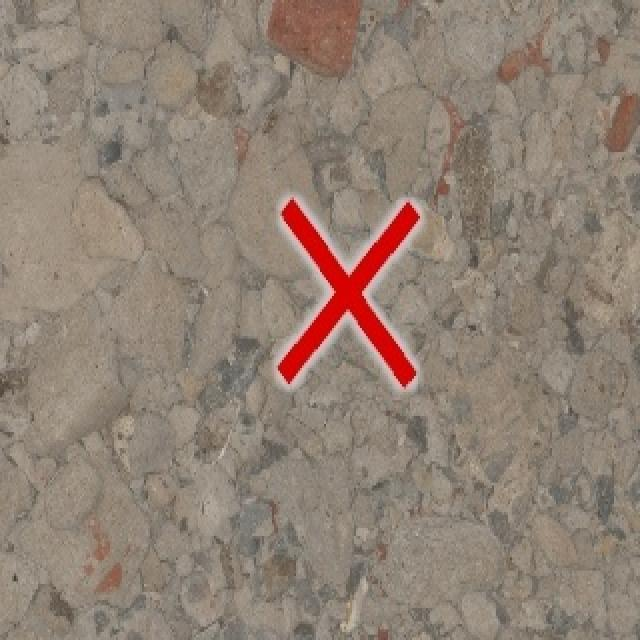x_marker: (277, 199, 419, 385)
